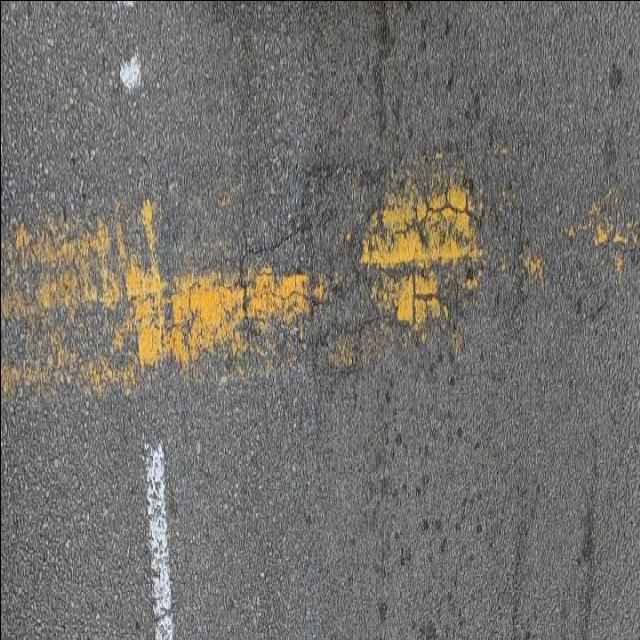cracks: (388, 132, 501, 346), (220, 171, 328, 333)
